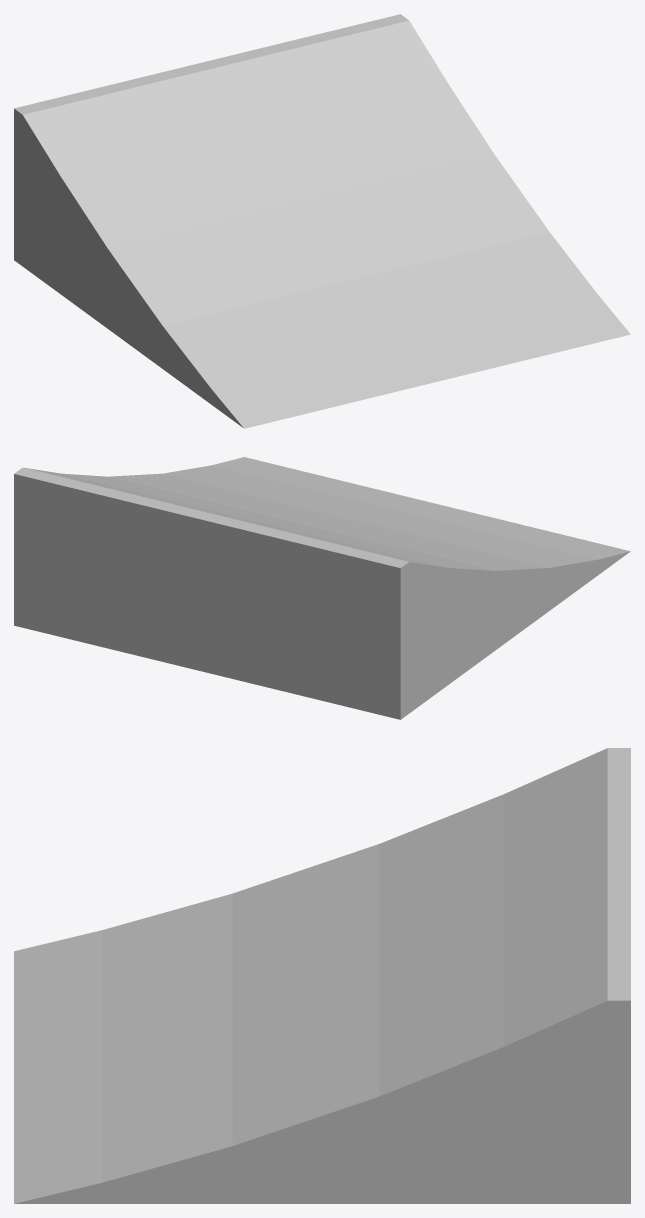
Rendered from FloatingKicker.fbx.
3 renders of one model, top to bottom at view 1: azimuth 30°, elevation 25°; view 2: azimuth 150°, elevation 25°; view 3: azimuth 270°, elevation 25°, orthographic. The views are drawn at different scales.
Parts seen in each view (by area): view 1: FloatingKicker; view 2: FloatingKicker; view 3: FloatingKicker.
Part boxes in pixels (x1=…): FloatingKicker: x1=14, y1=14, x2=630, y2=428; FloatingKicker: x1=14, y1=457, x2=630, y2=719; FloatingKicker: x1=14, y1=748, x2=630, y2=1203.
Size of what is drawn, in the model's own units: 2 by 2.06 by 0.7502.
